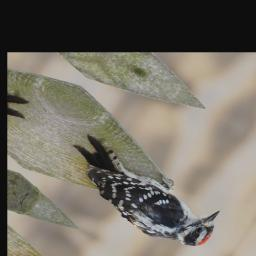Woodpecker: (47, 131, 228, 256)
